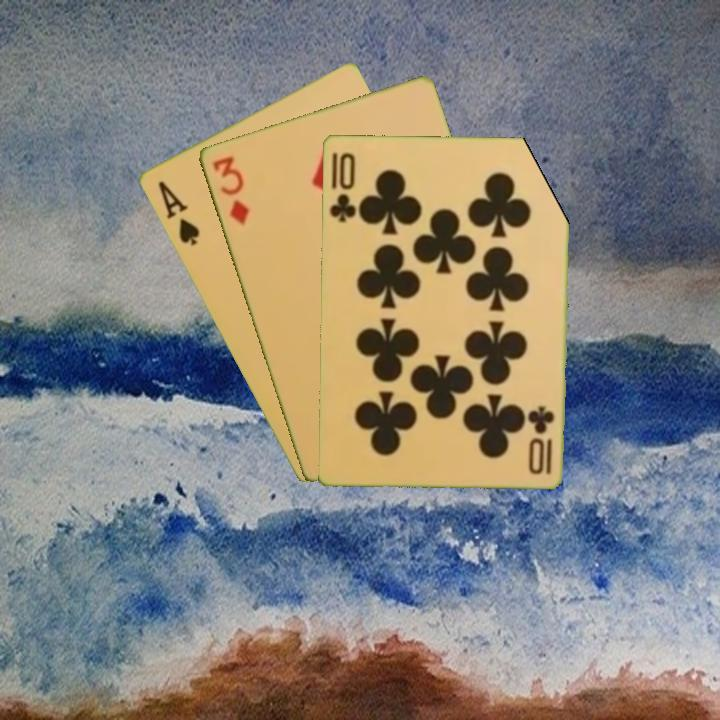10c: (325, 148, 358, 224), (527, 401, 556, 477)
3d: (208, 152, 252, 228)
As: (154, 177, 202, 249)
